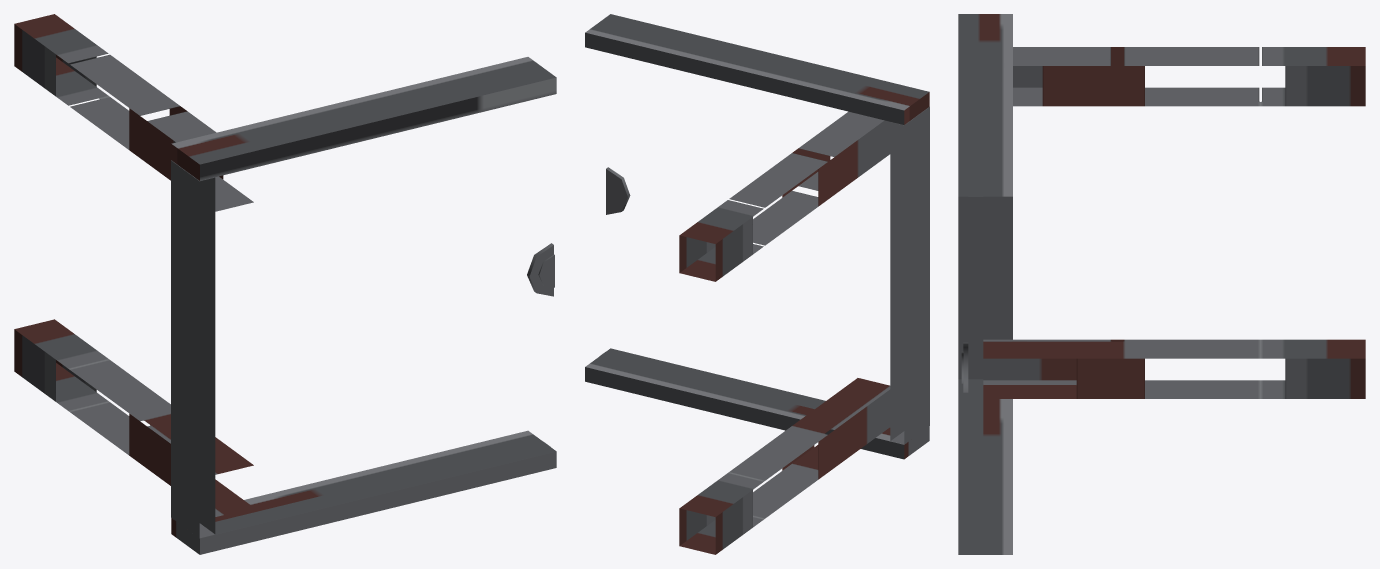
File: section-0.obj
The picture shows the model from 3 angles, left to right: view 1: azimuth 30°, elevation 25°; view 2: azimuth 150°, elevation 25°; view 3: azimuth 270°, elevation 25°; orthographic projection. The views are drawn at different scales.
Size of the model in its own units: 0.7955 by 0.831 by 0.82.
